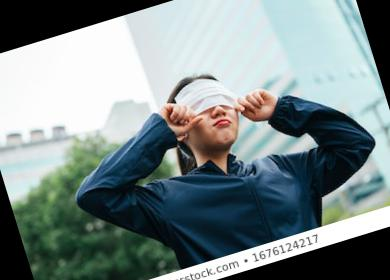mask_weared_incorrect: (173, 76, 247, 154)
